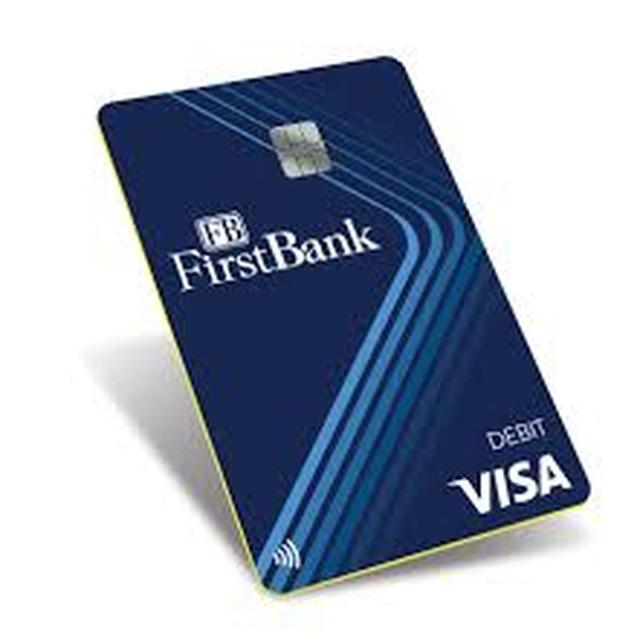card: (77, 58, 592, 619)
